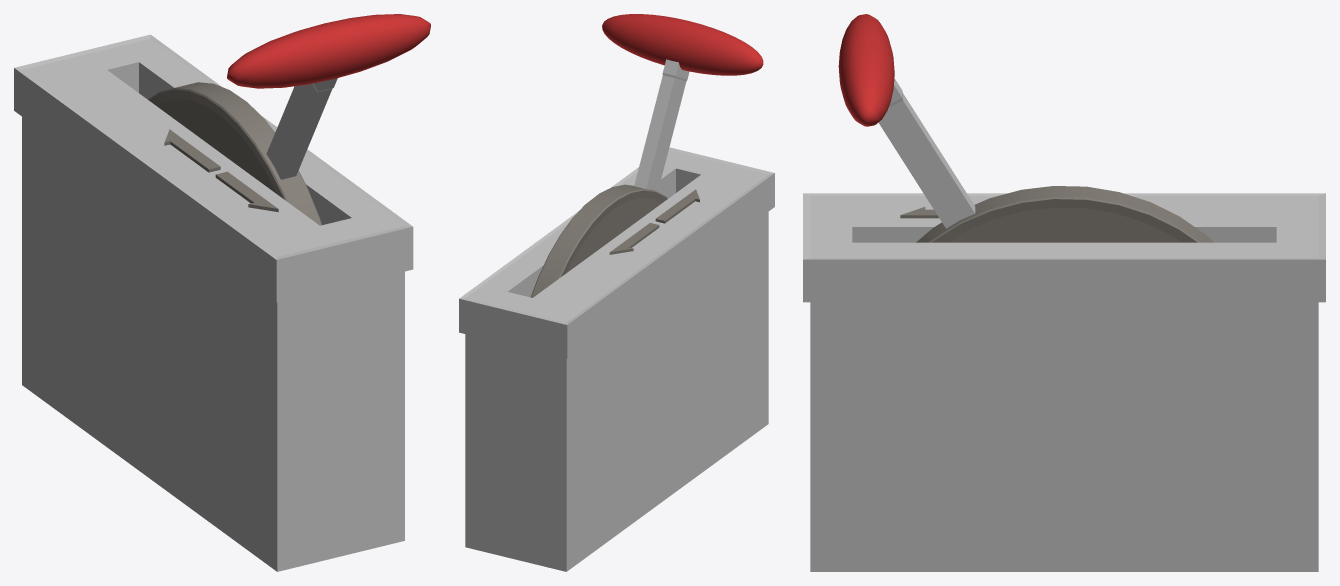
Rendered from Lever.fbx.
3 views of the same model, side by side, from view 1: azimuth 30°, elevation 25°; view 2: azimuth 150°, elevation 25°; view 3: azimuth 270°, elevation 25° (orthographic). The views are drawn at different scales.
Parts seen in each view (by area): view 1: pCube6, polySurface2, pCylinder2, polySurface1, polySurface3, polySurface4; view 2: pCube6, polySurface2, pCylinder2, polySurface1, polySurface4, polySurface3; view 3: pCube6, pCylinder2, polySurface1, polySurface2.
Boxes of the visible parts, bbox=[...] form: pCube6: bbox=[14, 34, 413, 571]; polySurface2: bbox=[227, 14, 430, 88]; pCylinder2: bbox=[148, 82, 321, 225]; polySurface1: bbox=[266, 78, 337, 179]; polySurface3: bbox=[215, 171, 278, 212]; polySurface4: bbox=[164, 129, 220, 172]; pCube6: bbox=[459, 147, 774, 571]; polySurface2: bbox=[602, 14, 763, 75]; pCylinder2: bbox=[530, 184, 667, 297]; polySurface1: bbox=[634, 59, 689, 191]; polySurface4: bbox=[609, 223, 659, 254]; polySurface3: bbox=[655, 189, 699, 223]; pCube6: bbox=[803, 193, 1325, 571]; pCylinder2: bbox=[916, 186, 1213, 242]; polySurface1: bbox=[878, 78, 975, 228]; polySurface2: bbox=[838, 14, 894, 126].
Bounding box in the file's own units: 16.53 × 39.33 × 36.86.
